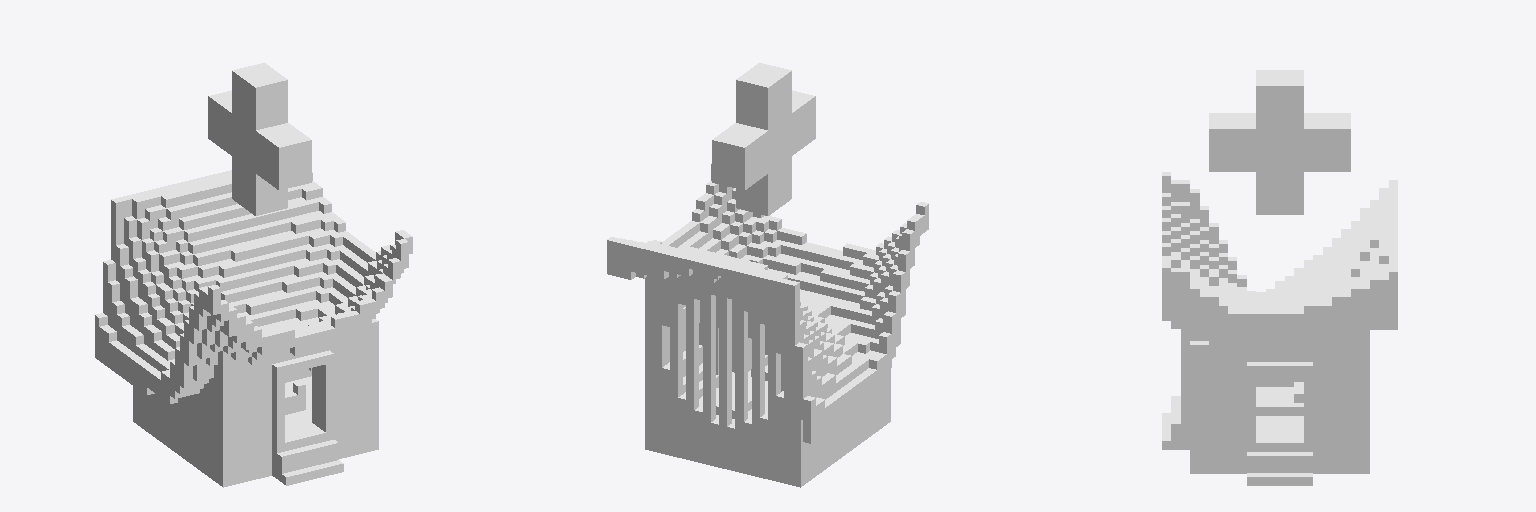
The model's file is healing_temple.obj.
3 renders of one model, left to right at view 1: azimuth 30°, elevation 25°; view 2: azimuth 150°, elevation 25°; view 3: azimuth 270°, elevation 25°, orthographic.
Visible parts, largest first — view 1: object 1; view 2: object 1; view 3: object 1.
Part boxes in pixels (left/top/right/bottom): object 1: left=95, top=63, right=412, bottom=487; object 1: left=607, top=63, right=928, bottom=487; object 1: left=1162, top=70, right=1397, bottom=485.
Size of the model in its own units: 2.5 by 4.2 by 2.5.